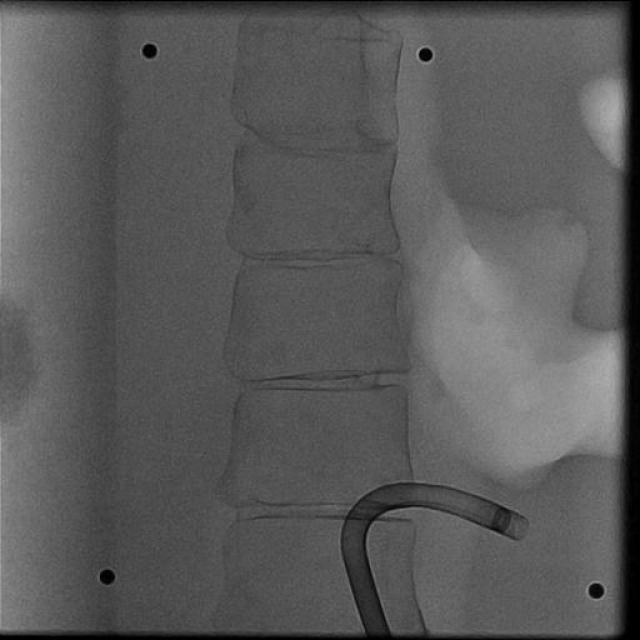bend: (341, 530, 365, 550)
entry: (366, 630, 390, 636)
marker: (492, 508, 512, 534)
tip: (513, 518, 531, 542)
